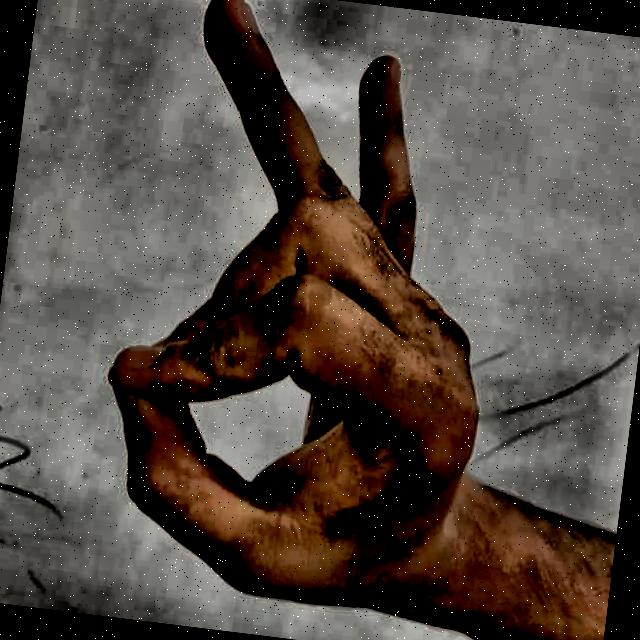Na: (29, 0, 552, 640)
